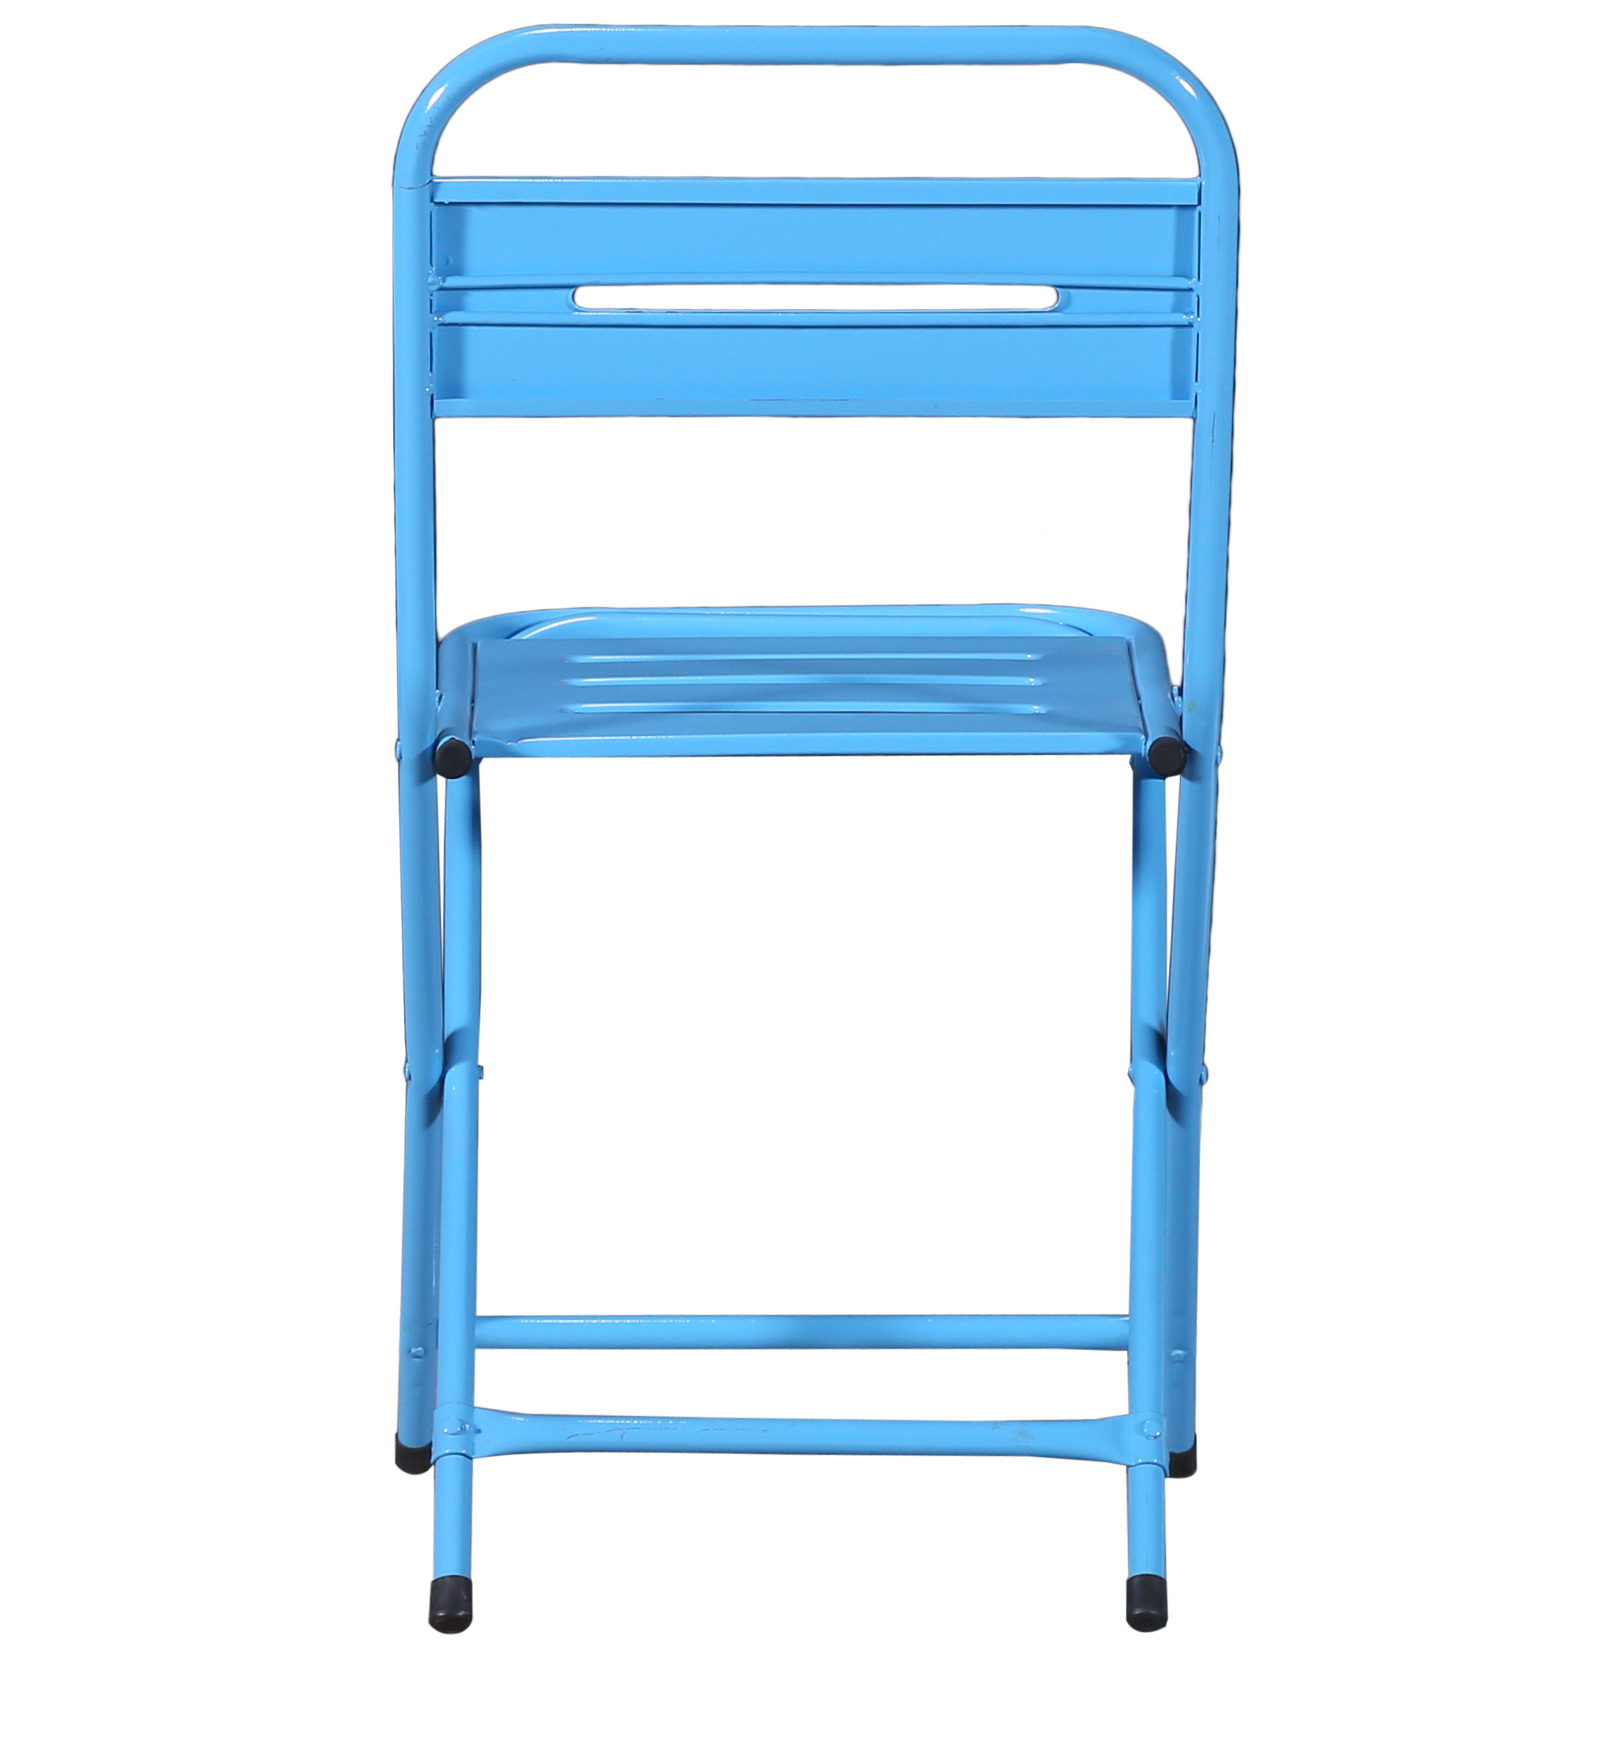Marandoo Grunge Blue Outdoor Folding Chair by Bohemiana: (372, 14, 1238, 1637)
